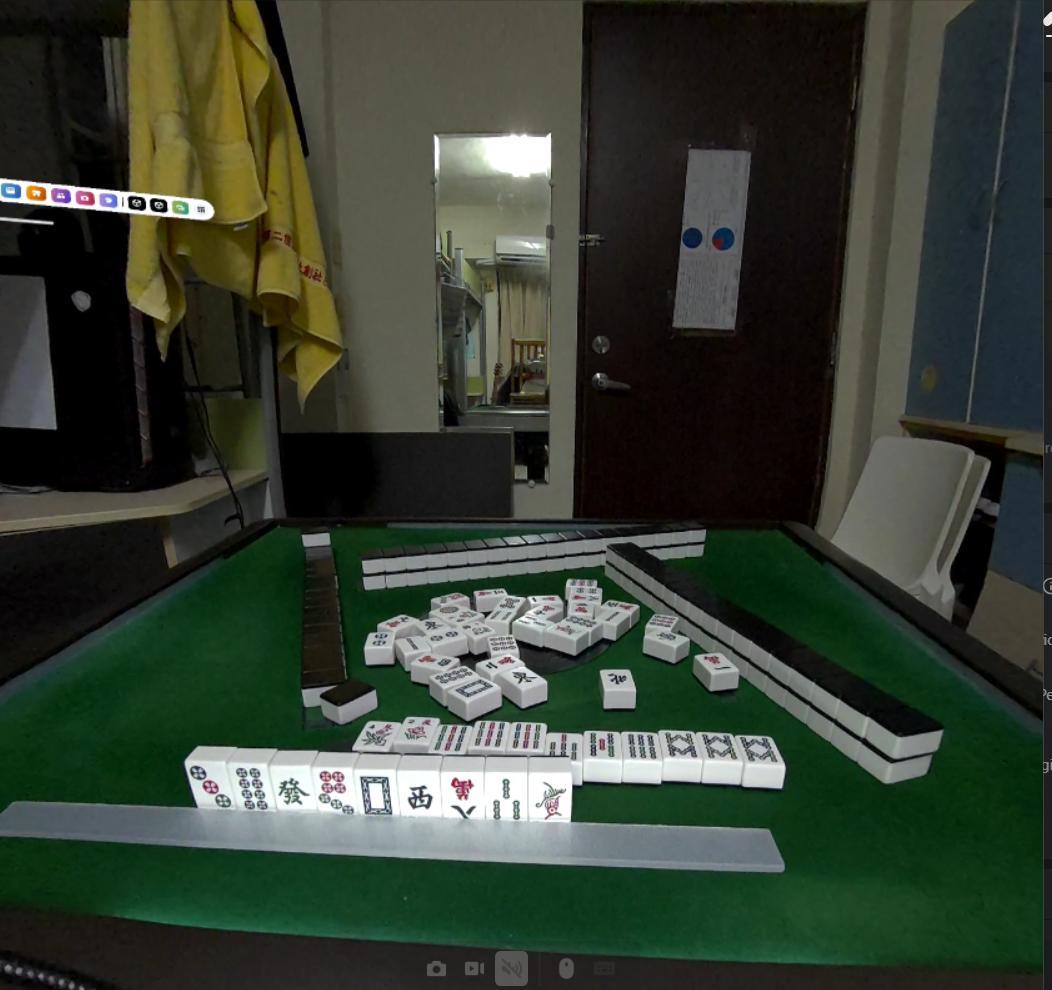mahjong: (185, 752, 236, 827), (473, 765, 531, 824), (313, 762, 361, 820), (437, 769, 489, 822), (532, 765, 571, 831), (268, 762, 313, 819), (355, 765, 400, 822), (227, 762, 273, 816), (400, 767, 443, 819)
